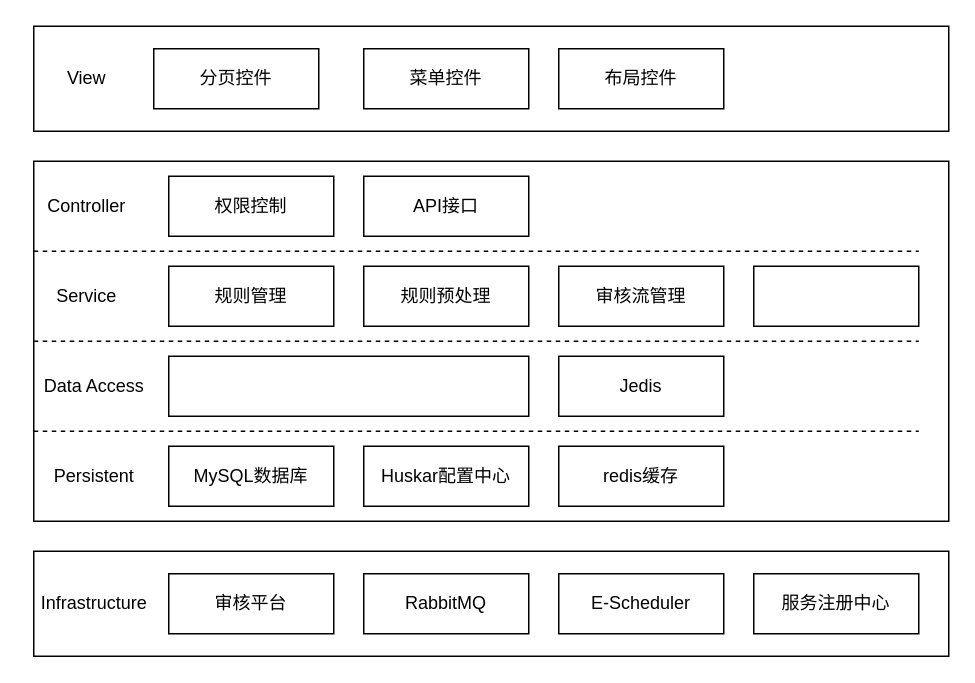
This 975x683 diagram has some shape labels left out. The shapes that lost their labels are listed below. From the top down, each one's centre as x and y in pixels, then its label:
At point (835, 295): "规则应用".
At point (348, 385): "Spring Data JPA".
